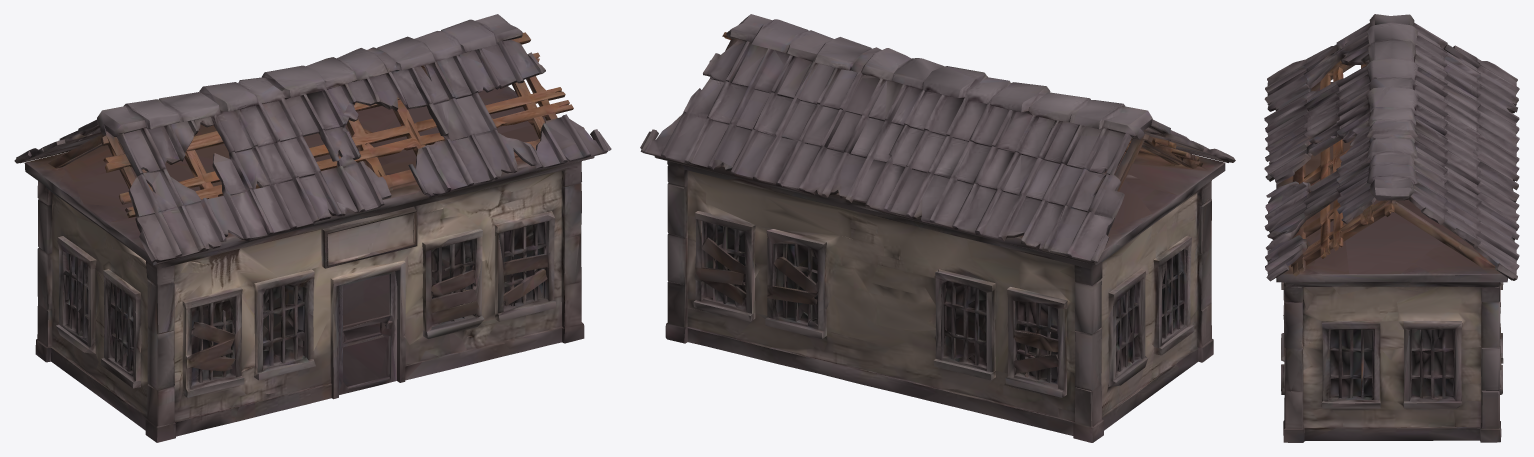
Rendered from house_small_c_idle.glb.
3 renders of one model, left to right at view 1: azimuth 30°, elevation 25°; view 2: azimuth 150°, elevation 25°; view 3: azimuth 270°, elevation 25°, orthographic. The views are drawn at different scales.
Visible parts, largest first — view 1: tripo_node_bd2b4e4e-5290-4823-aca6-5c593e7ee5fe; view 2: tripo_node_bd2b4e4e-5290-4823-aca6-5c593e7ee5fe; view 3: tripo_node_bd2b4e4e-5290-4823-aca6-5c593e7ee5fe.
Boxes of the visible parts, x1,y1,x2,y2 form: tripo_node_bd2b4e4e-5290-4823-aca6-5c593e7ee5fe: (14,14,611,442); tripo_node_bd2b4e4e-5290-4823-aca6-5c593e7ee5fe: (640,14,1235,442); tripo_node_bd2b4e4e-5290-4823-aca6-5c593e7ee5fe: (1264,14,1519,442).
Bounding box in the file's own units: 7.99 × 4.64 × 4.29.
Materials: 1 (1 with a texture image).
